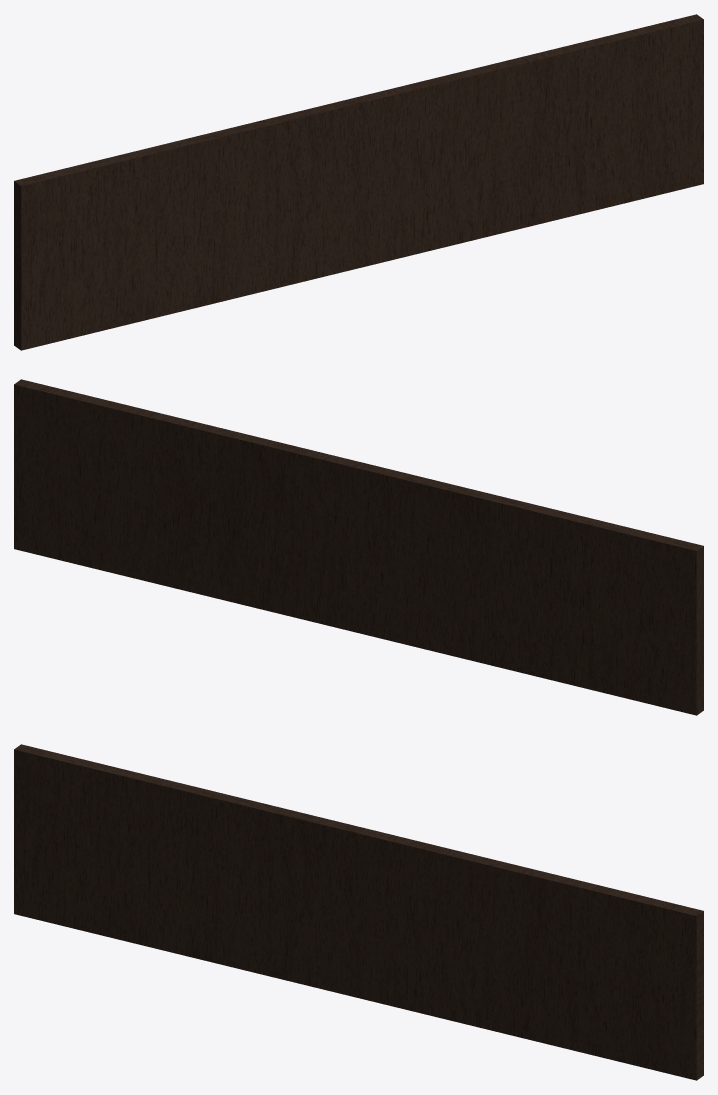
Rendered from headboard.glb.
The picture shows the model from 3 angles, top to bottom: view 1: azimuth 30°, elevation 25°; view 2: azimuth 150°, elevation 25°; view 3: azimuth 330°, elevation 25°; orthographic projection.
Visible parts, largest first — view 1: Headboard; view 2: Headboard; view 3: Headboard.
Boxes of the visible parts, box(x1,y1,x2,y2) form: Headboard: box(14, 14, 703, 350); Headboard: box(14, 379, 703, 715); Headboard: box(14, 744, 703, 1080).
Size of the model in its own units: 2.91 by 0.6708 by 0.053.
Materials: 1 (1 with a texture image).
